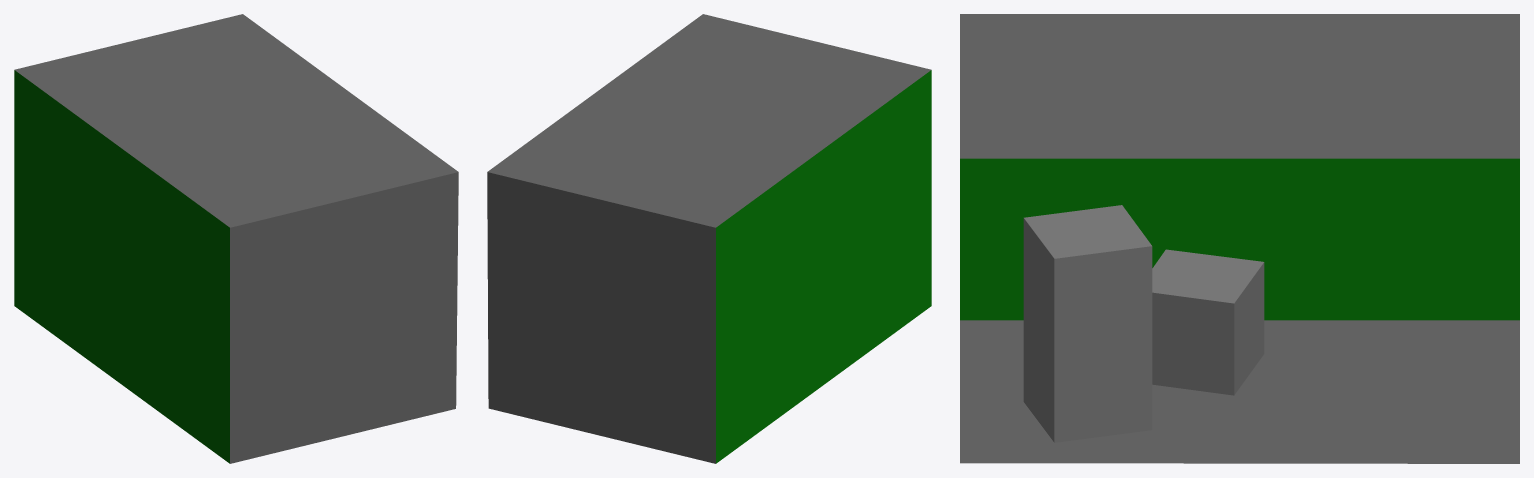
File: cornell_box_reflect.obj
3 views of the same model, side by side, from view 1: azimuth 30°, elevation 25°; view 2: azimuth 150°, elevation 25°; view 3: azimuth 270°, elevation 25° (orthographic). The views are drawn at different scales.
Bounding box in the file's own units: 556 × 549 × 909.
